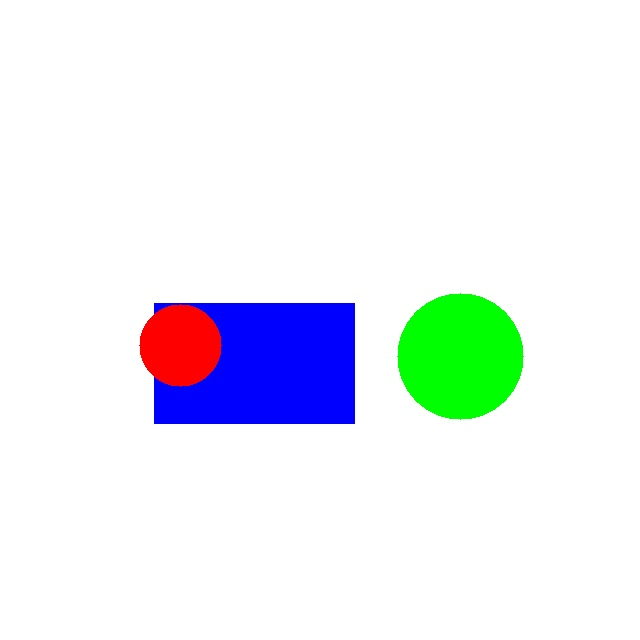cartao: (154, 303, 354, 423)
rosca_externa: (397, 293, 523, 419)
rosca_interna: (139, 304, 221, 386)
